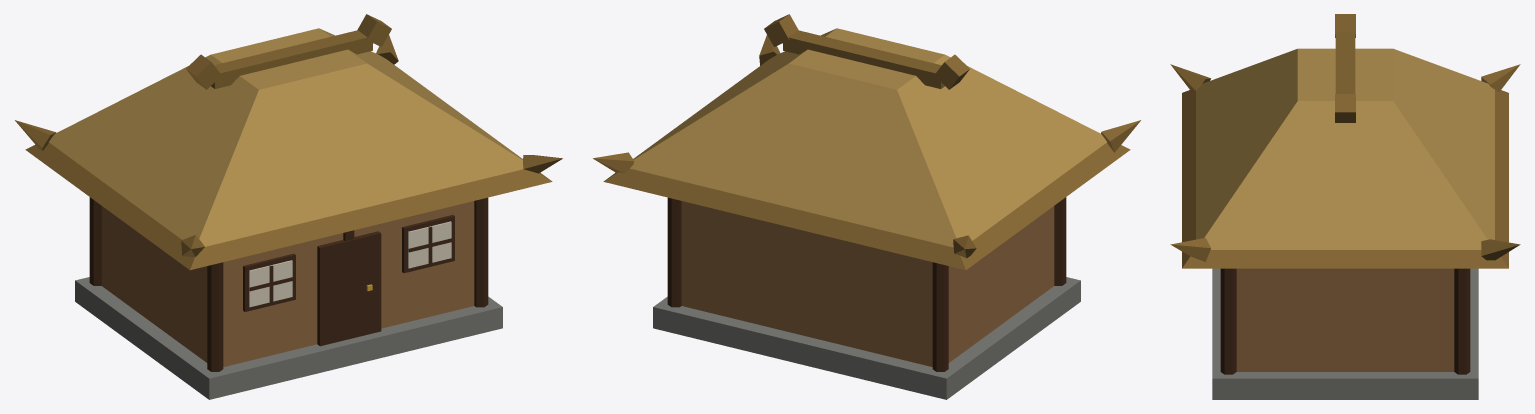
Rendered from SM_GZ_house_green_0.fbx.
3 views of the same model, side by side, from view 1: azimuth 30°, elevation 25°; view 2: azimuth 150°, elevation 25°; view 3: azimuth 270°, elevation 25° (orthographic).
Parts seen in each view (by area): view 1: SM_GZ_house_green_0; view 2: SM_GZ_house_green_0; view 3: SM_GZ_house_green_0.
Part boxes in pixels (x1,y1,x2,y2): SM_GZ_house_green_0: [15, 14, 562, 399]; SM_GZ_house_green_0: [593, 14, 1140, 399]; SM_GZ_house_green_0: [1170, 14, 1520, 399].
Bounding box in the file's own units: 914 × 649 × 750.
